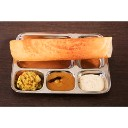dosa: (6, 38, 118, 62)
